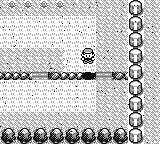main: (81, 49, 95, 63)
no-caminable: (128, 0, 144, 143), (2, 128, 128, 143)
salto: (49, 72, 96, 79), (1, 72, 31, 80), (112, 72, 127, 79)
